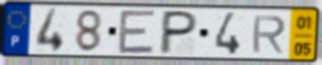4: (34, 6, 67, 55), (213, 10, 243, 57)
8: (73, 8, 105, 54)
E: (117, 8, 158, 55)
P: (156, 9, 201, 57)
R: (250, 14, 288, 55)
